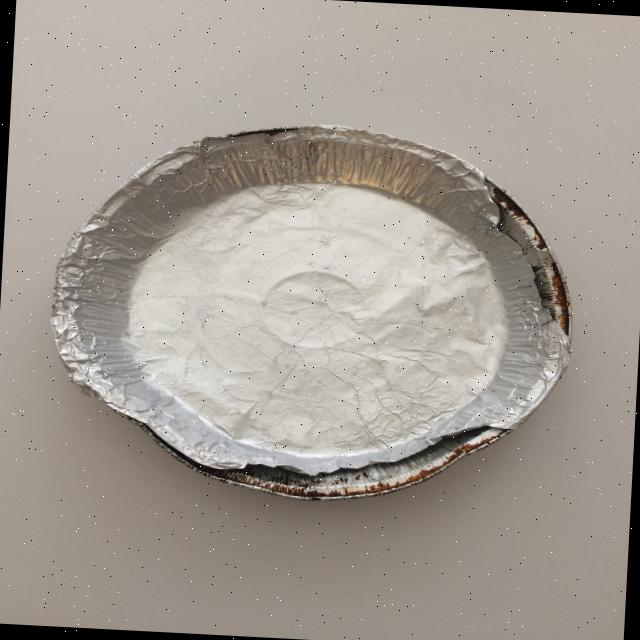metal: (41, 110, 584, 514)
